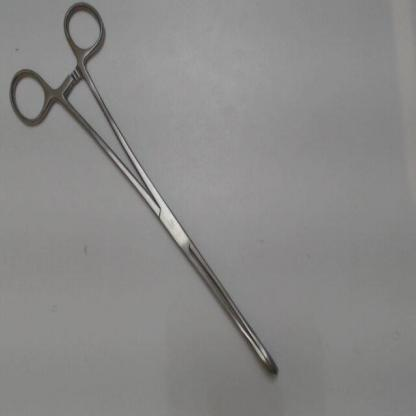Sponge Forceps: (5, 1, 287, 386)
